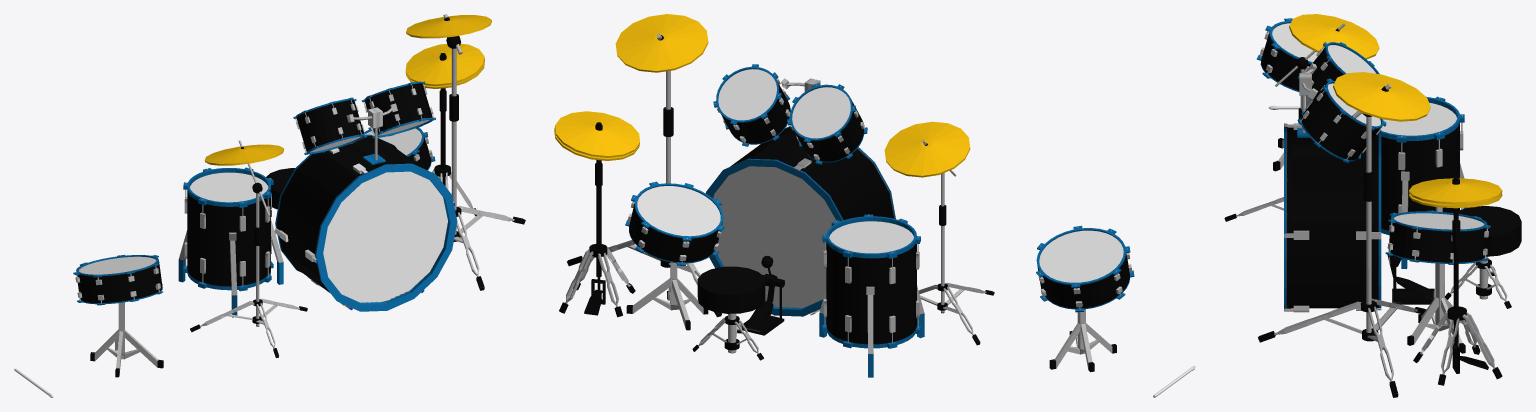
Rendered from Drum_F.fbx.
The picture shows the model from 3 angles, left to right: view 1: azimuth 30°, elevation 25°; view 2: azimuth 150°, elevation 25°; view 3: azimuth 270°, elevation 25°; orthographic projection. The views are drawn at different scales.
Visible parts, largest first — view 1: Drum_Set, Drum_tamtam, Drum_Chair; view 2: Drum_Set, Drum_tamtam, Drum_Chair; view 3: Drum_Set, Drum_Chair, Drum_tamtam.
Part boxes in pixels (box(x1,y1,x2,y2)): Drum_Set: box(178, 14, 525, 357); Drum_tamtam: box(73, 255, 163, 377); Drum_Chair: box(266, 168, 294, 234); Drum_Set: box(554, 14, 994, 377); Drum_tamtam: box(1036, 225, 1134, 372); Drum_Chair: box(692, 266, 765, 360); Drum_Set: box(1224, 14, 1502, 397); Drum_Chair: box(1445, 206, 1521, 308); Drum_tamtam: box(1256, 18, 1317, 171).
Size of the model in its own units: 124 by 53.64 by 52.29.
